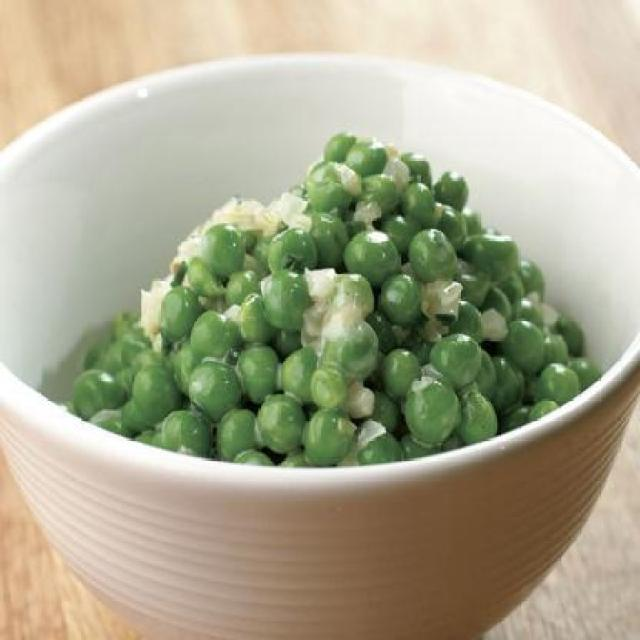Peas: (56, 126, 598, 468)
